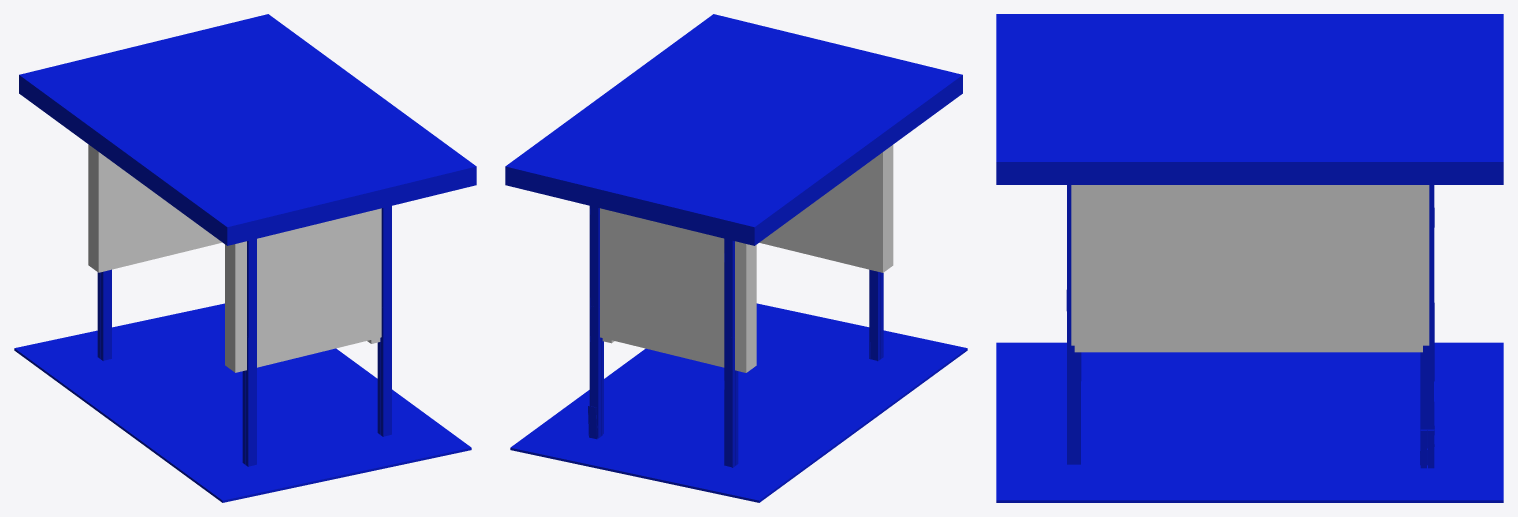
The picture shows the model from 3 angles, left to right: view 1: azimuth 30°, elevation 25°; view 2: azimuth 150°, elevation 25°; view 3: azimuth 270°, elevation 25°; orthographic projection. The views are drawn at different scales.
Parts seen in each view (by area): view 1: 立方体.004, 立方体.005, 立方体.013, 立方体.014, 立方体.001, 立方体.003; view 2: 立方体.004, 立方体.005, 立方体.014, 立方体.013, 立方体.002, 立方体.003; view 3: 立方体.004, 立方体.005, 立方体, 立方体.013, 立方体.014, 立方体.001, 立方体.002.
Boxes of the visible parts, x1,y1,x2,y2 form: 立方体.004: [19, 14, 476, 361]; 立方体.005: [14, 303, 471, 502]; 立方体.013: [225, 208, 381, 372]; 立方体.014: [88, 144, 222, 272]; 立方体.001: [377, 206, 391, 436]; 立方体.003: [242, 239, 256, 466]; 立方体.004: [505, 14, 962, 467]; 立方体.005: [510, 303, 967, 502]; 立方体.014: [600, 208, 756, 372]; 立方体.013: [759, 145, 893, 272]; 立方体.002: [589, 206, 603, 437]; 立方体.003: [869, 269, 883, 361]; 立方体.004: [996, 14, 1503, 381]; 立方体.005: [996, 342, 1503, 502]; 立方体: [1074, 185, 1422, 352]; 立方体.013: [1071, 185, 1096, 345]; 立方体.014: [1404, 185, 1429, 345]; 立方体.001: [1066, 185, 1080, 464]; 立方体.002: [1420, 185, 1434, 465].
Bounding box in the file's own units: 2841 × 3018 × 4035.
